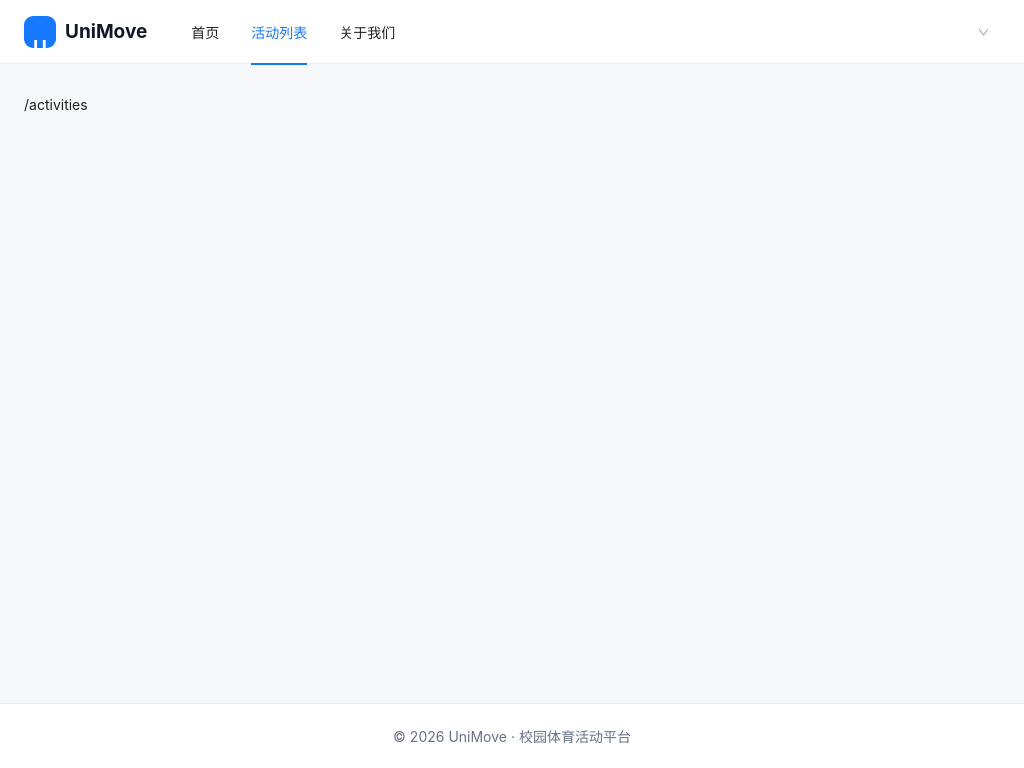
Test case: AppLayout user menu › opens the existing profile and logout actions on click
Click the button named "打开用户菜单".
click(964, 32)  # box [927,12,1000,52]
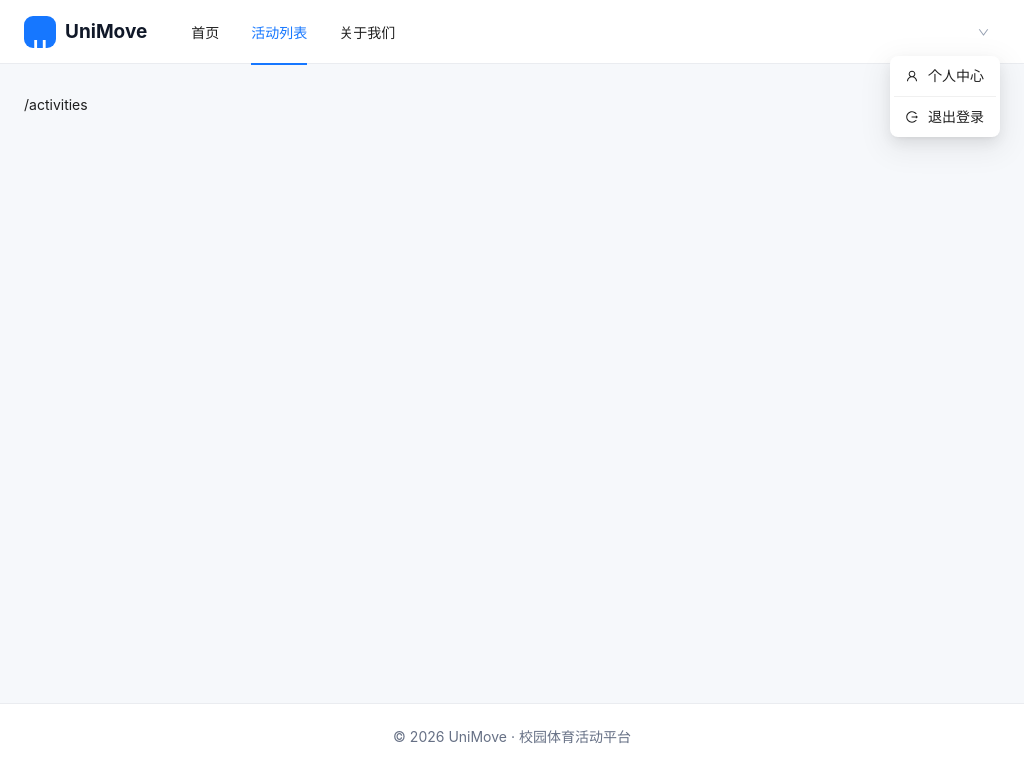
Result: the text "个人中心" is shown at [928,65,984,87]
Result: the text "退出登录" is shown at [928,106,984,128]
